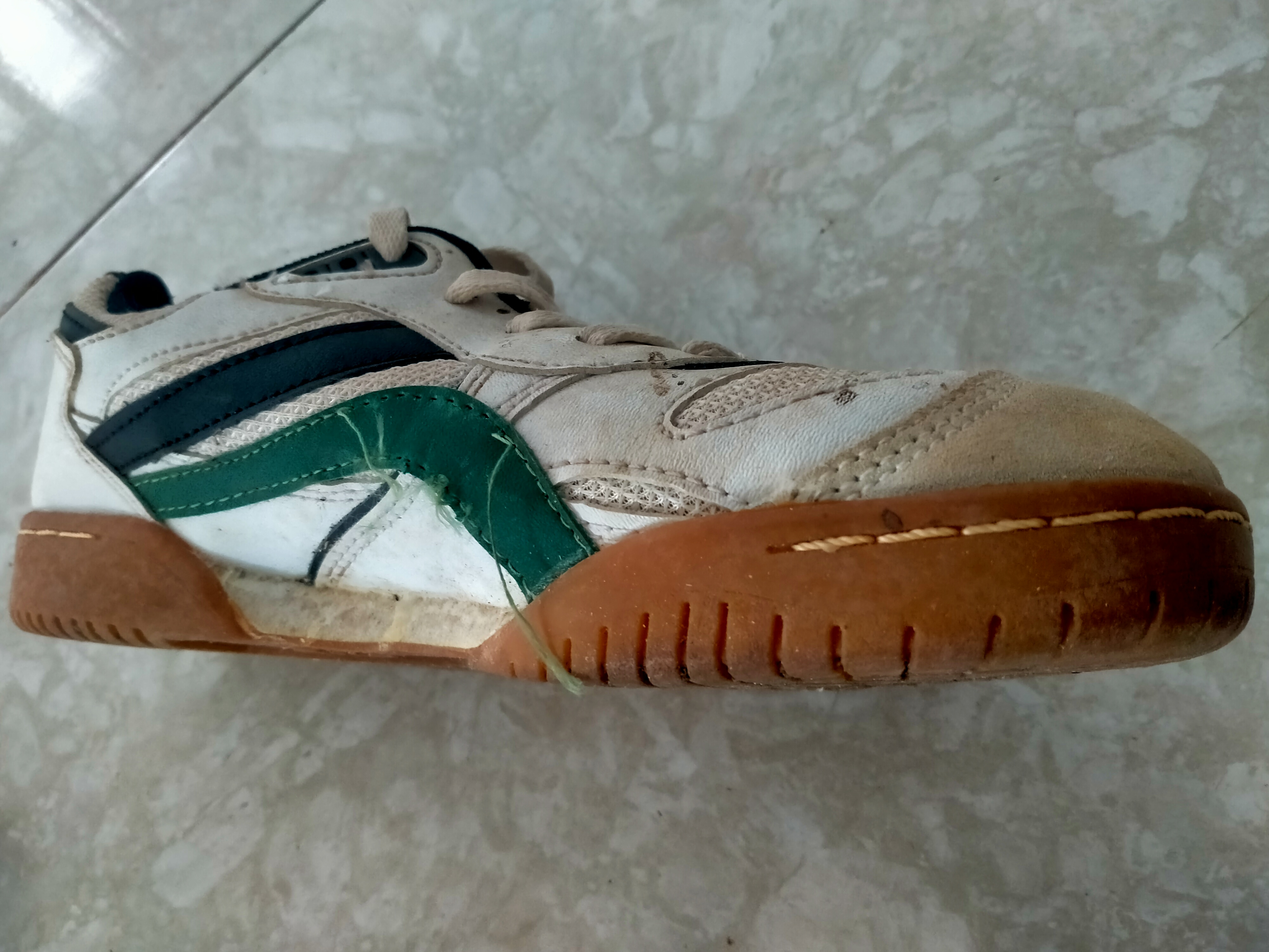broken: (352, 386, 513, 440), (368, 445, 466, 518)
